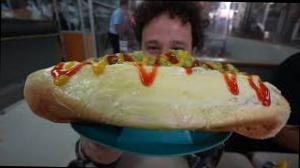Completos: (30, 44, 289, 146)
